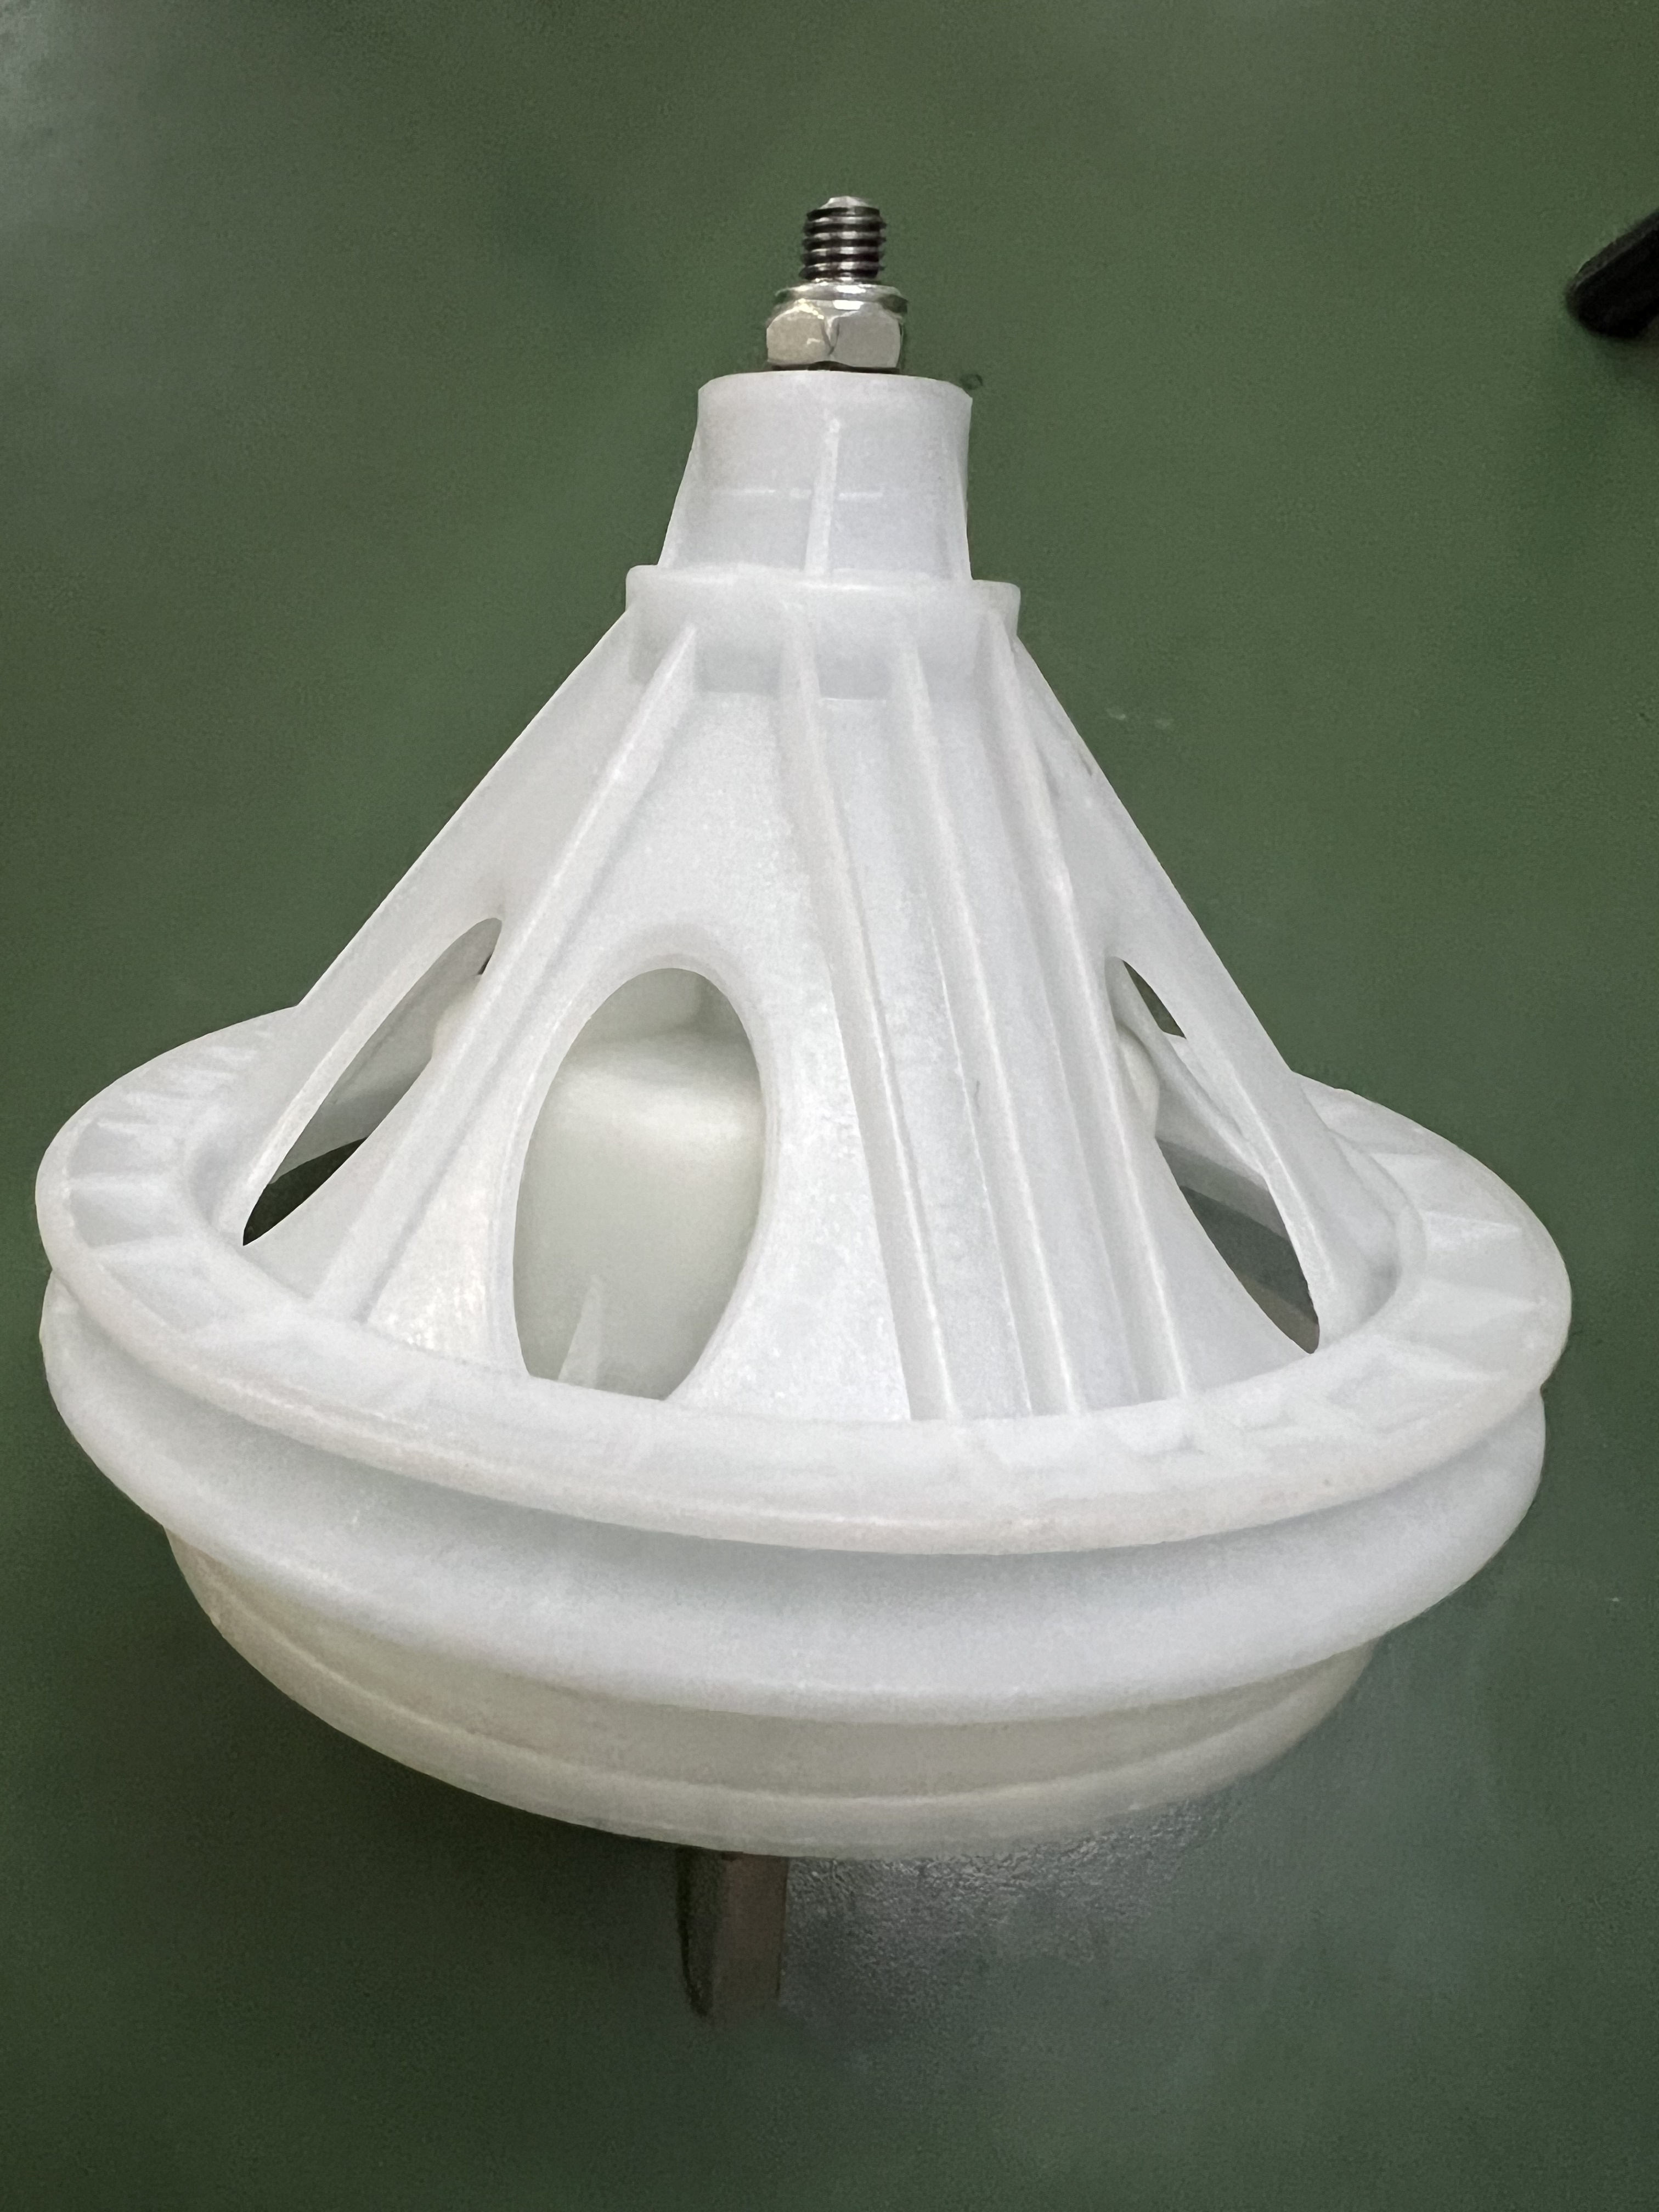gear_box_ovul: (12, 197, 1500, 2015)
